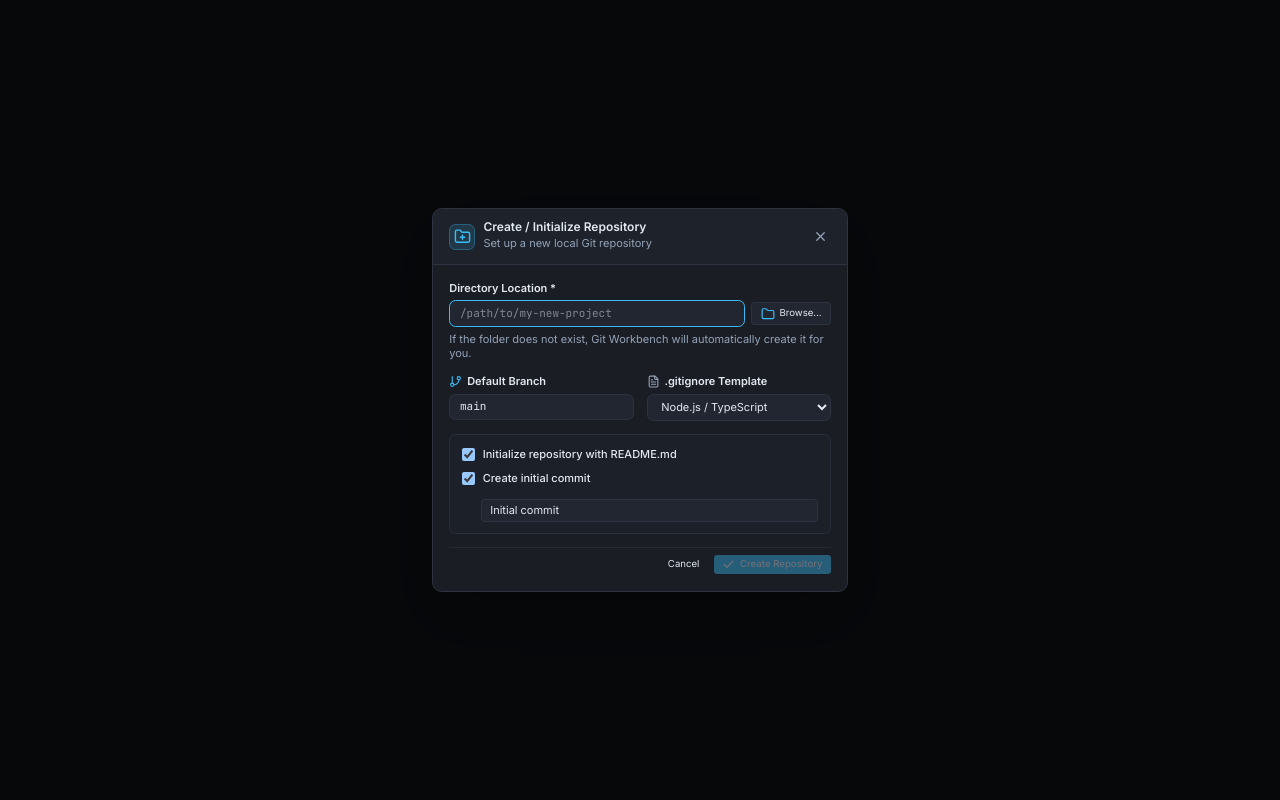
Scenario: CreateRepoModal › reports repository initialization failure {"ok":false,"error":"Git identity required"}
In the field with placeholder "/path/to/my-new-project": (597, 314) [449,300,745,327], type "/new"
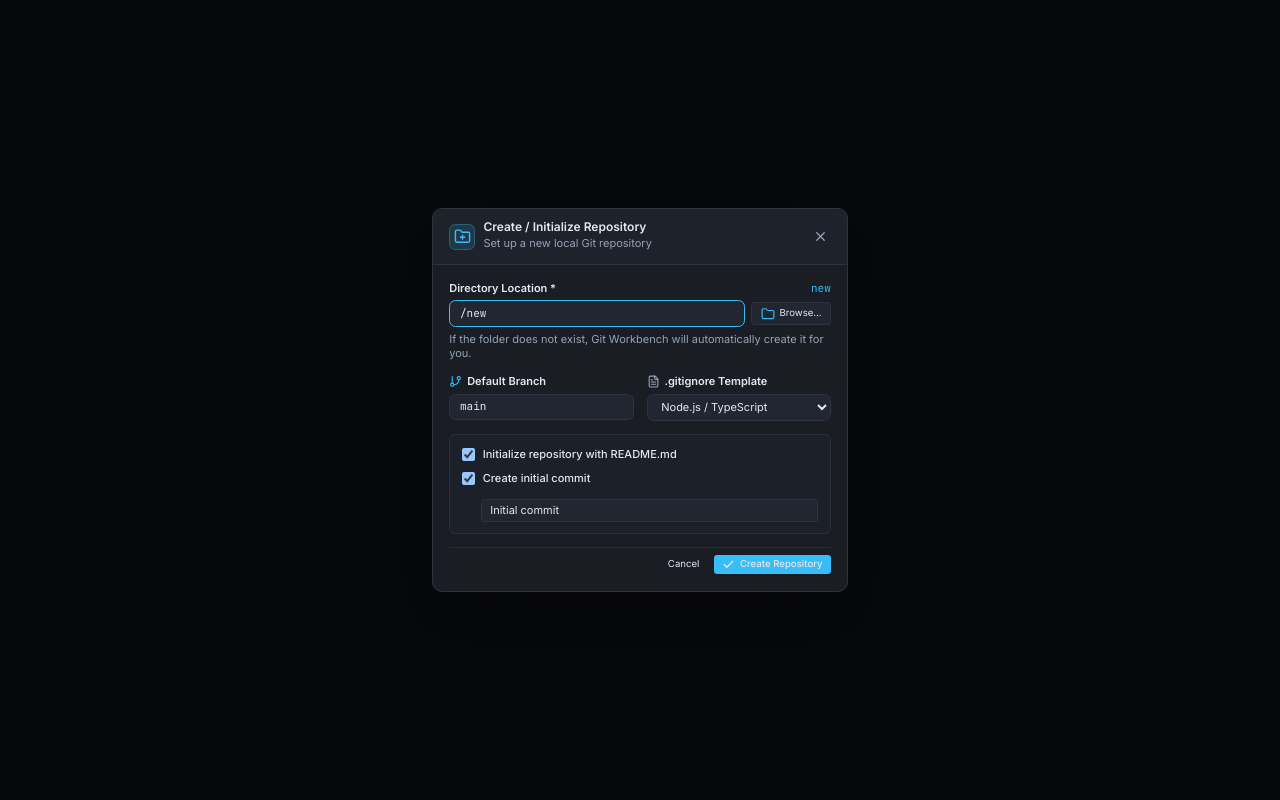
Click the button "Create Repository": (772, 565) [714,555,831,574]
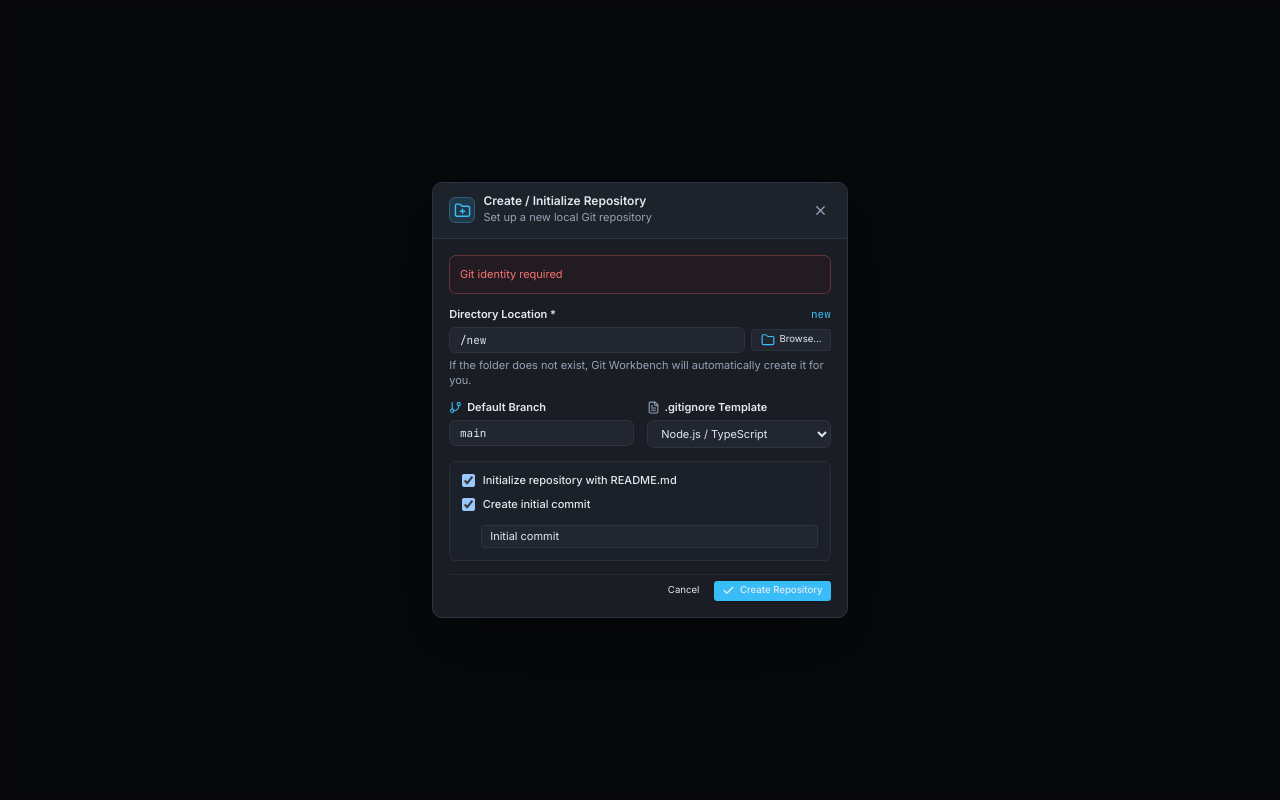
Expected: the button "Create Repository" is enabled, [714,581,831,600]
Expected: the text "Git identity required" is shown, [449,255,831,294]
